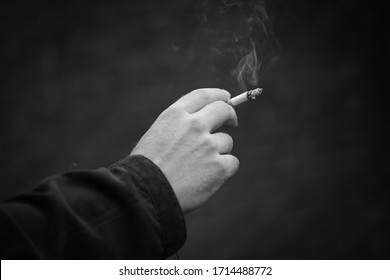cigarette: (226, 85, 265, 107)
